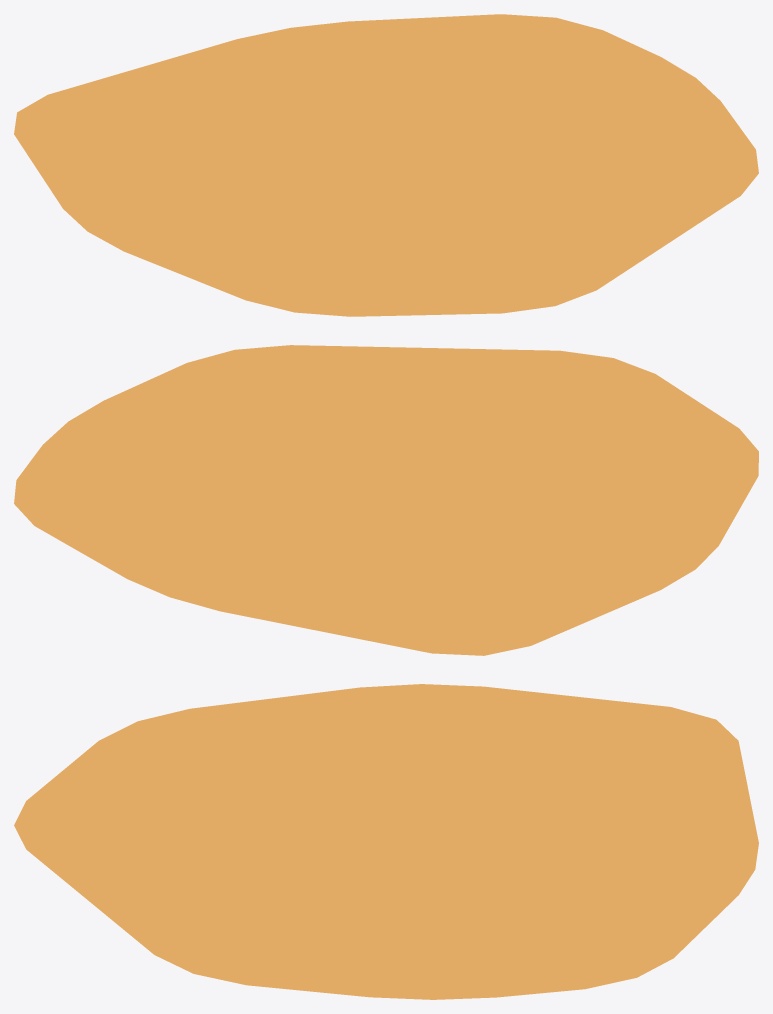
The model's file is Dirt_A.fbx.
3 views of the same model, one above another, from view 1: azimuth 30°, elevation 25°; view 2: azimuth 150°, elevation 25°; view 3: azimuth 270°, elevation 25° (orthographic). The views are drawn at different scales.
Parts seen in each view (by area): view 1: Dirt_A; view 2: Dirt_A; view 3: Dirt_A.
Part boxes in pixels (x1=…): Dirt_A: x1=14, y1=14, x2=758, y2=316; Dirt_A: x1=14, y1=345, x2=758, y2=655; Dirt_A: x1=14, y1=684, x2=758, y2=999.
Size of the model in its own units: 299 by 0 by 298.
